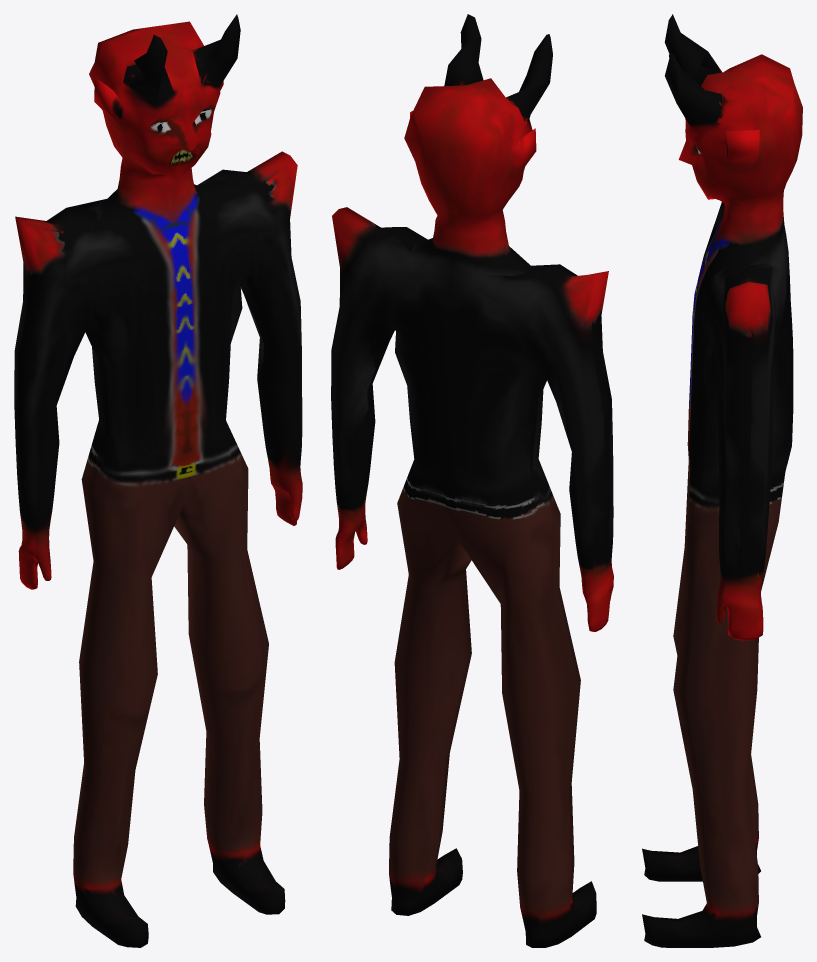
File: Demon_Man_1.fbx
3 renders of one model, left to right at view 1: azimuth 30°, elevation 25°; view 2: azimuth 150°, elevation 25°; view 3: azimuth 270°, elevation 25°, orthographic. The views are drawn at different scales.
Parts seen in each view (by area): view 1: DemonisAdami; view 2: DemonisAdami; view 3: DemonisAdami.
Part boxes in pixels (bbox=[...]): DemonisAdami: bbox=[14, 14, 302, 947]; DemonisAdami: bbox=[331, 14, 613, 947]; DemonisAdami: bbox=[642, 14, 802, 947].
Bounding box in the file's own units: 135 × 415 × 69.1.
1 material, 1 textured.
